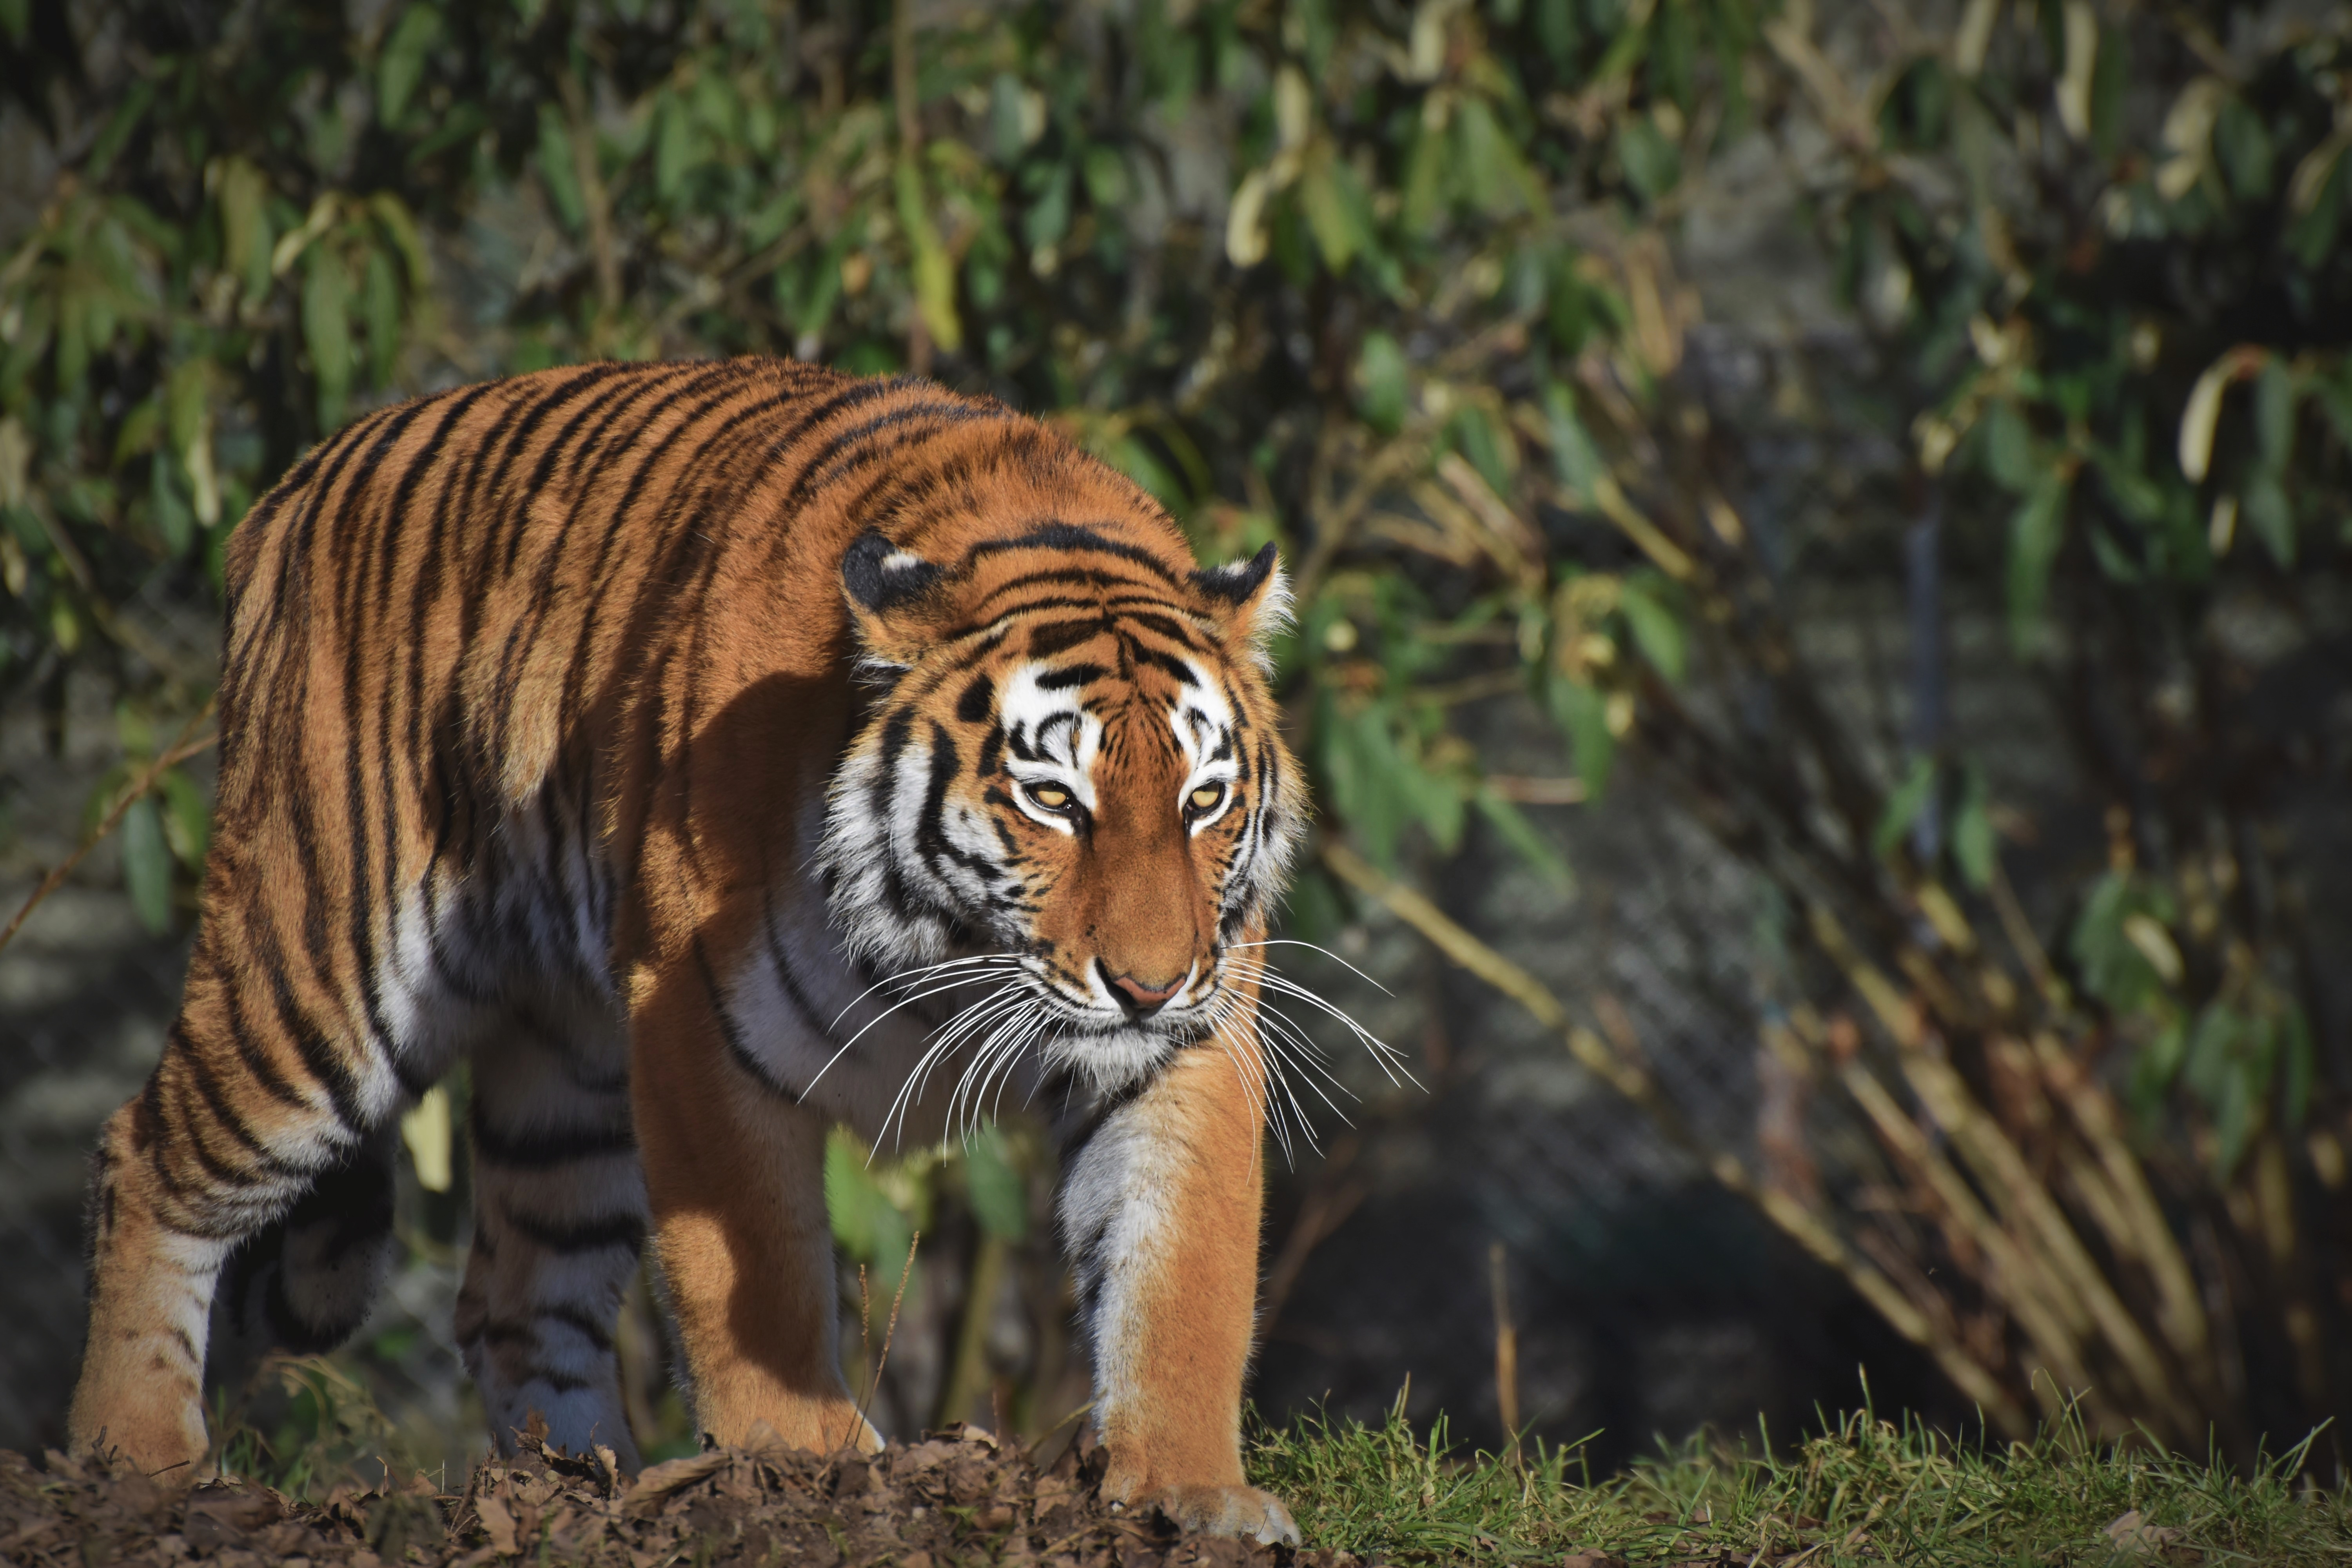tiger: (116, 318, 1341, 1563)
